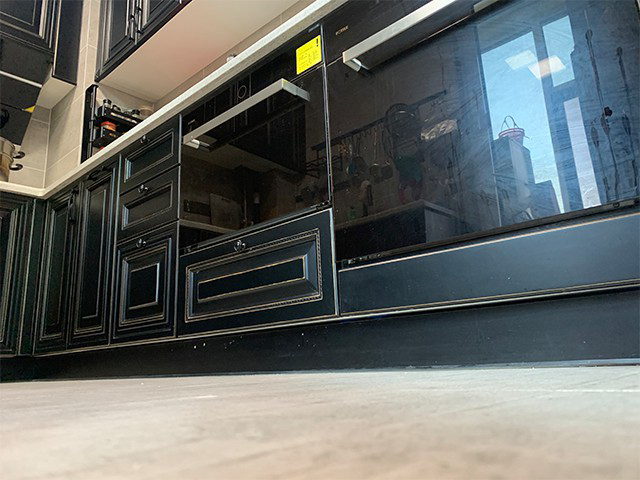cabinet: (328, 1, 640, 369), (38, 67, 331, 382)
